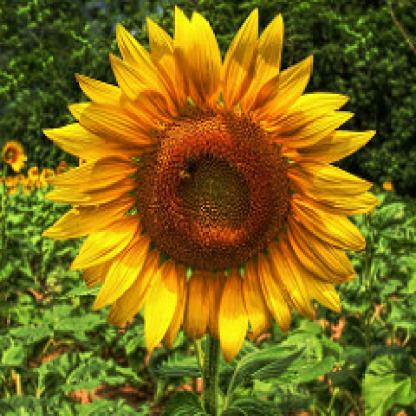SUN FLOWER: (25, 7, 400, 392)
